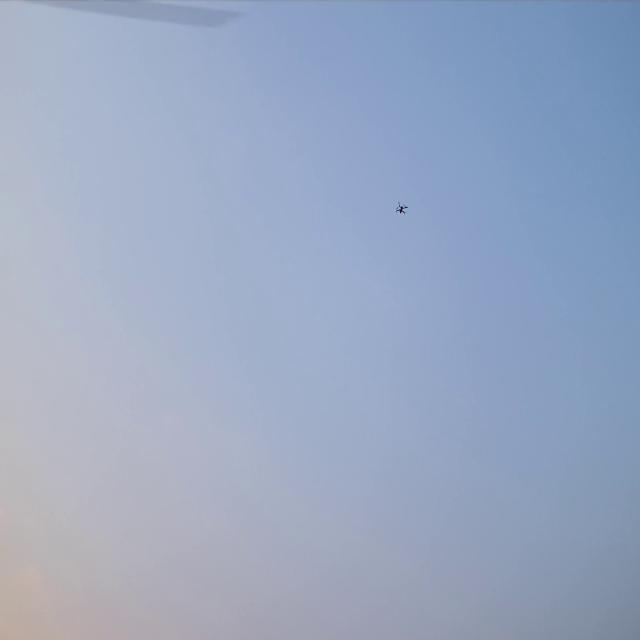UAV: (396, 203, 407, 213)
